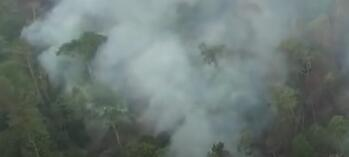smoke: (21, 0, 345, 154)
